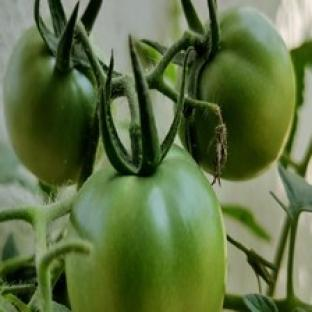Tomato: (66, 147, 225, 311), (190, 7, 295, 179), (3, 27, 96, 185)
